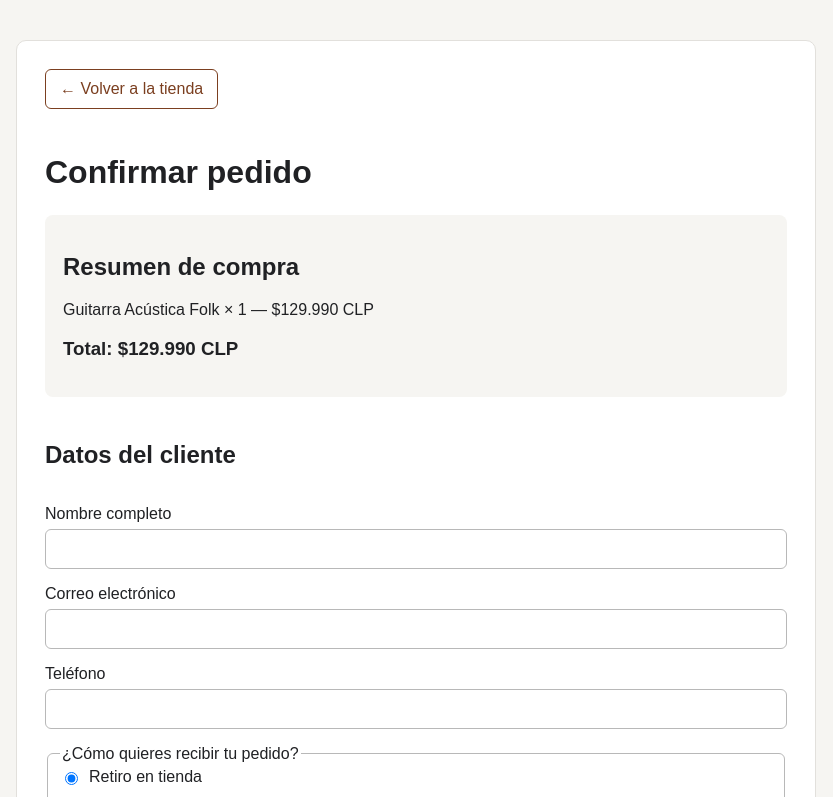
Test: Checkout › confirma el pedido cuando se envía el formulario
In the field labelled "Nombre completo": (416, 548) [45,528,787,568], type "Benja"
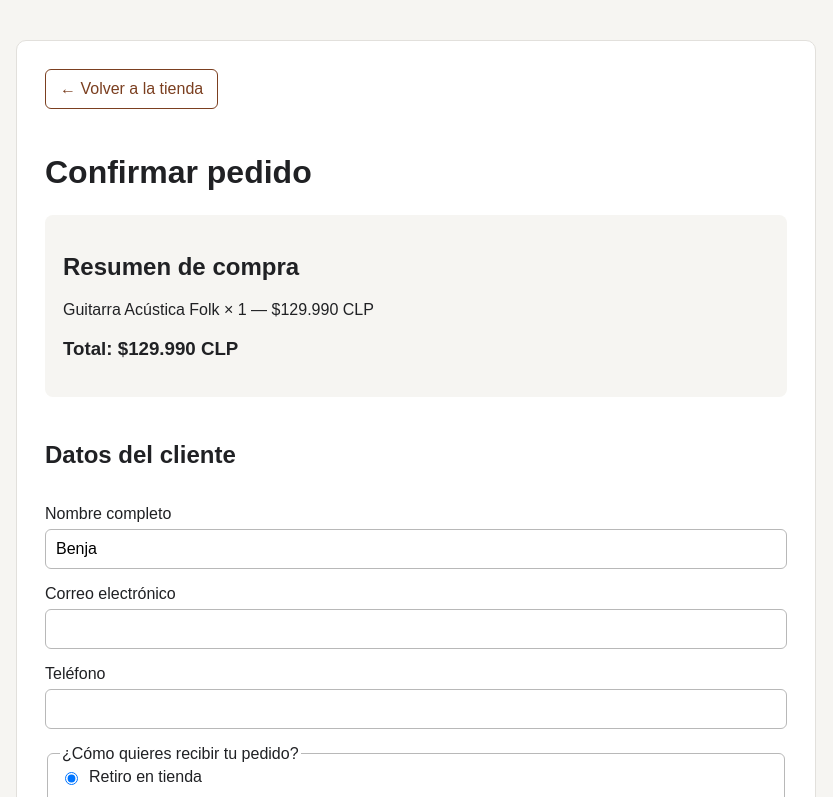
In the field labelled "Correo electrónico": (416, 628) [45,608,787,648], type "benja@ejemplo.cl"
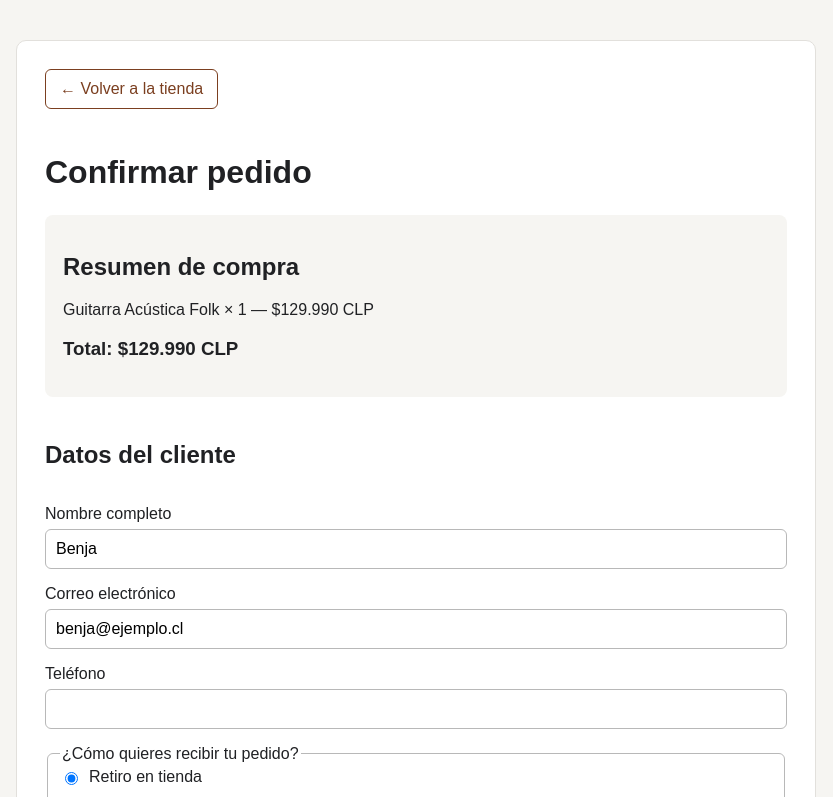
In the field labelled "Teléfono": (416, 708) [45,688,787,728], type "912345678"
(page scrolled)
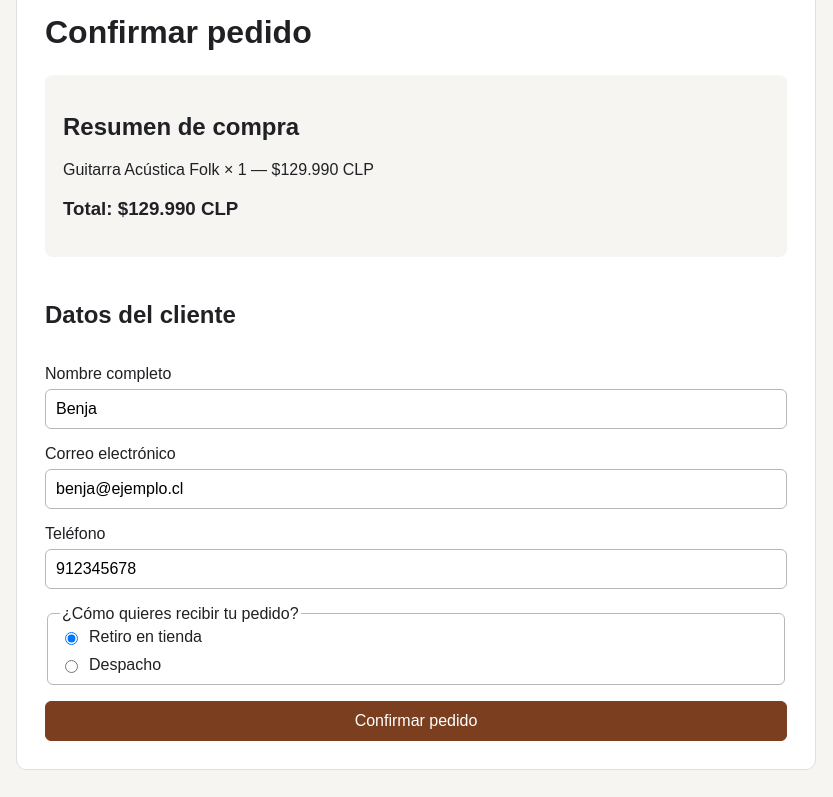
Submit the form named "Confirmar pedido", box [45,281,787,741]
(page scrolled)
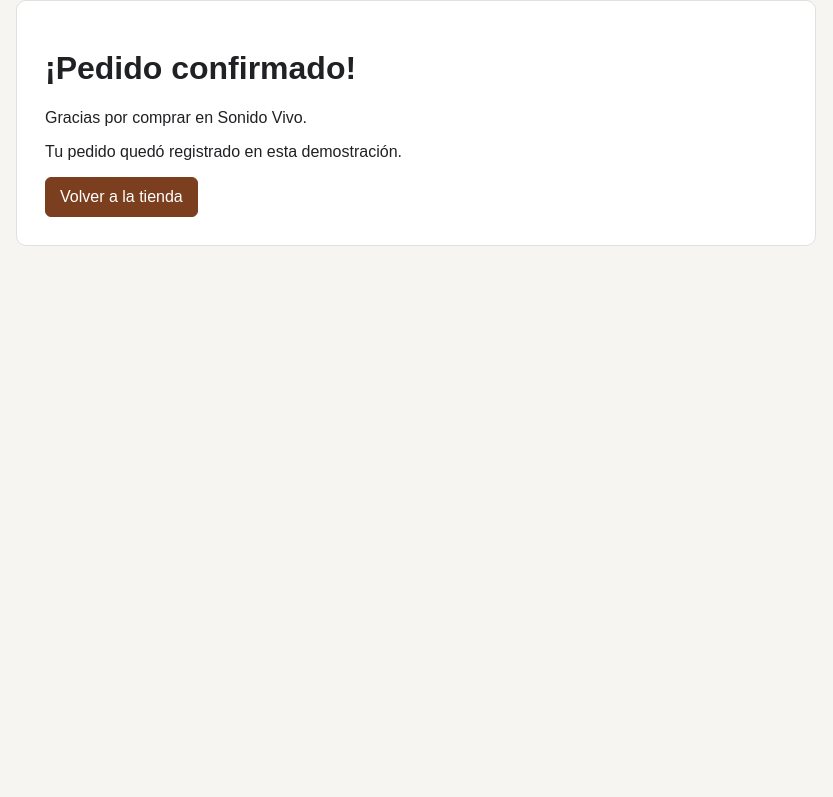
Result: the heading "¡Pedido confirmado!" is shown at [45,50,356,86]
